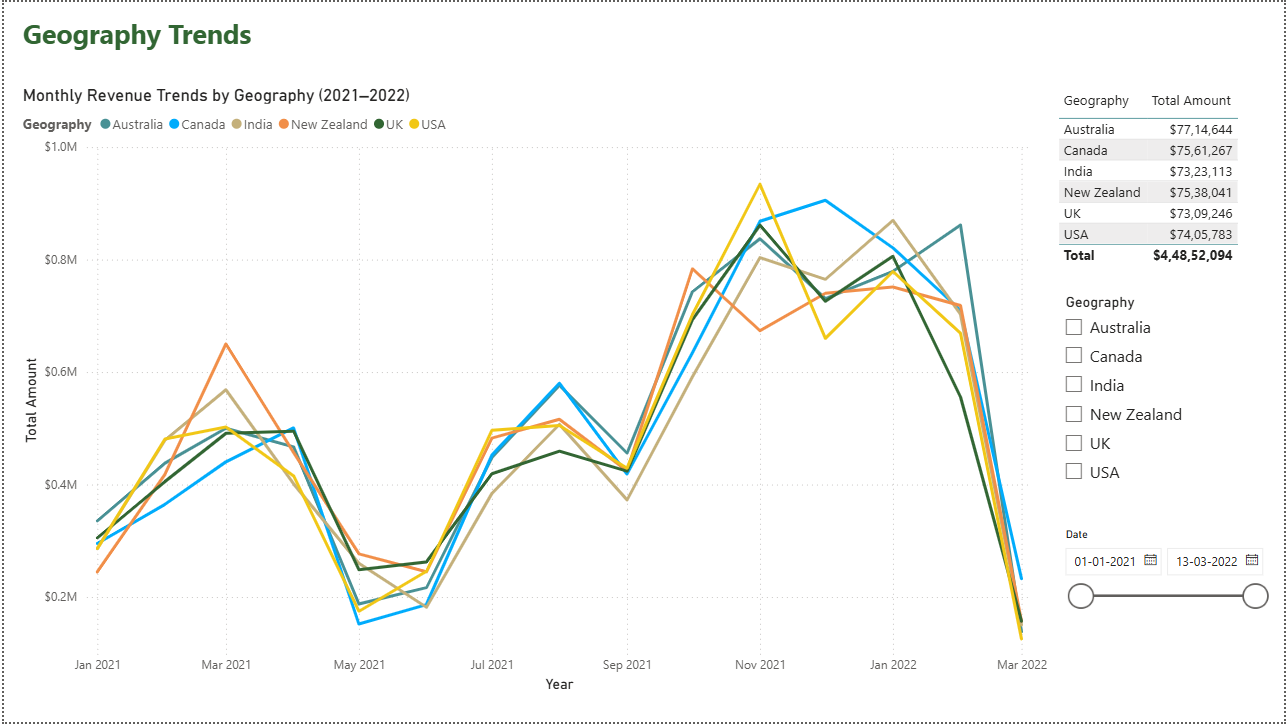

Layout of this report page (visuals, bound fields, positions):
{"tool":"powerbi","page":{"name":"GEOGRAPHY TRENDS","canvas":[1280,720],"ordinal":3},"visuals":[{"type":"lineChart","title":"Monthly Revenue Trends by Geography (2021–2022)","fields":{"Category":["sales.Date.Variation.Date Hierarchy.Year","sales.Date.Variation.Date Hierarchy.Quarter","sales.Date.Variation.Date Hierarchy.Month"],"Series":["sales.Geography"],"Y":["sales.Total Amount"]},"box":[13.8,82.5,1035,612.5],"z":0},{"type":"textbox","box":[13.8,8.8,593.8,57.5],"z":1000},{"type":"tableEx","fields":{"Values":["sales.Geography","sales.Total Amount"]},"box":[1048.8,82.5,231.2,202.5],"z":2000},{"type":"slicer","fields":{"Values":["sales.Geography"]},"box":[1048.8,286.2,231.2,212.5],"z":3000},{"type":"slicer","fields":{"Values":["sales.Date"]},"box":[1048.8,521.2,231.2,111.2],"z":4000}]}

Visuals, with their boxes in screenshot pixels (x1, y1, x2, y2), scaled from the page's 1280x720 canvas onto the 1286x724 screenshot:
"Monthly Revenue Trends by Geography (2021–2022)" lineChart: (14,83,1054,699)
textbox: (14,9,610,67)
tableEx - sales.Geography x sales.Total Amount: (1054,83,1285,287)
slicer - sales.Geography: (1054,288,1285,501)
slicer - sales.Date: (1054,524,1285,636)
